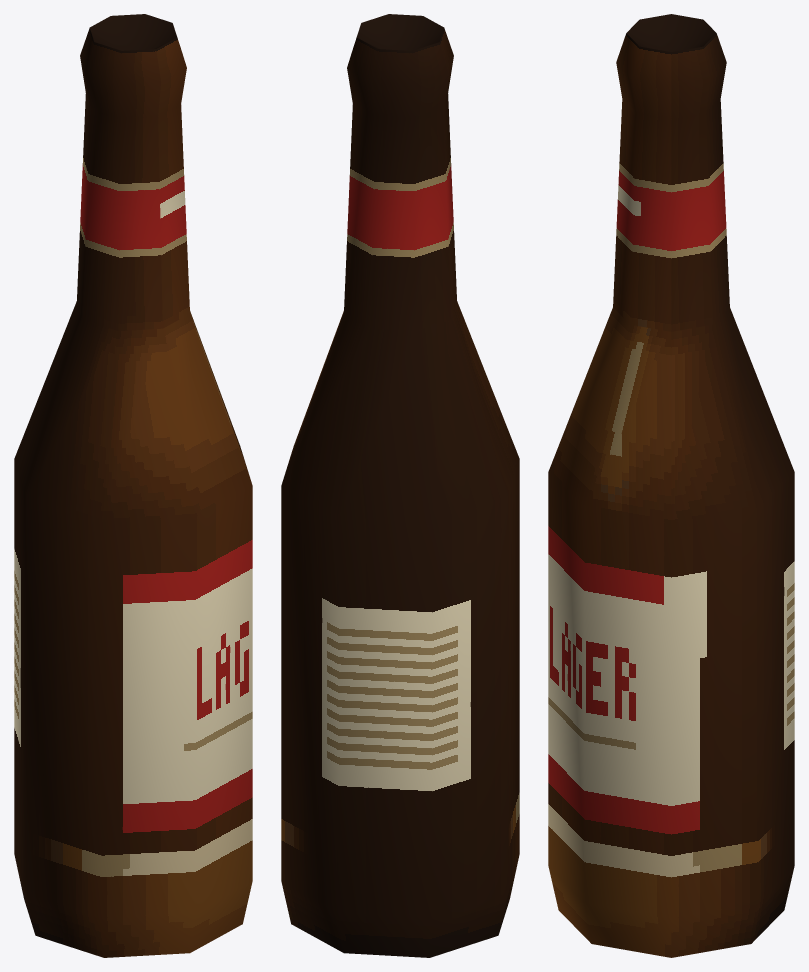
The model's file is SM_Motel_BeerBottle.glb.
3 views of the same model, side by side, from view 1: azimuth 30°, elevation 25°; view 2: azimuth 150°, elevation 25°; view 3: azimuth 270°, elevation 25° (orthographic).
Parts seen in each view (by area): view 1: SM_Motel_BeerBottle; view 2: SM_Motel_BeerBottle; view 3: SM_Motel_BeerBottle.
Part boxes in pixels (<box>): SM_Motel_BeerBottle: <box>14,14,252,957</box>; SM_Motel_BeerBottle: <box>281,14,519,957</box>; SM_Motel_BeerBottle: <box>548,14,794,957</box>.
Size of what is drawn, in the model's own units: 0.061 by 0.24 by 0.061.
Materials: 1 (1 with a texture image).
